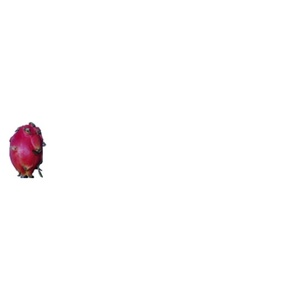pitaia: (10, 123, 47, 179)
